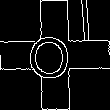O_N: (33, 29, 77, 81)
